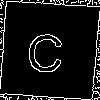C: (24, 24, 67, 73)
